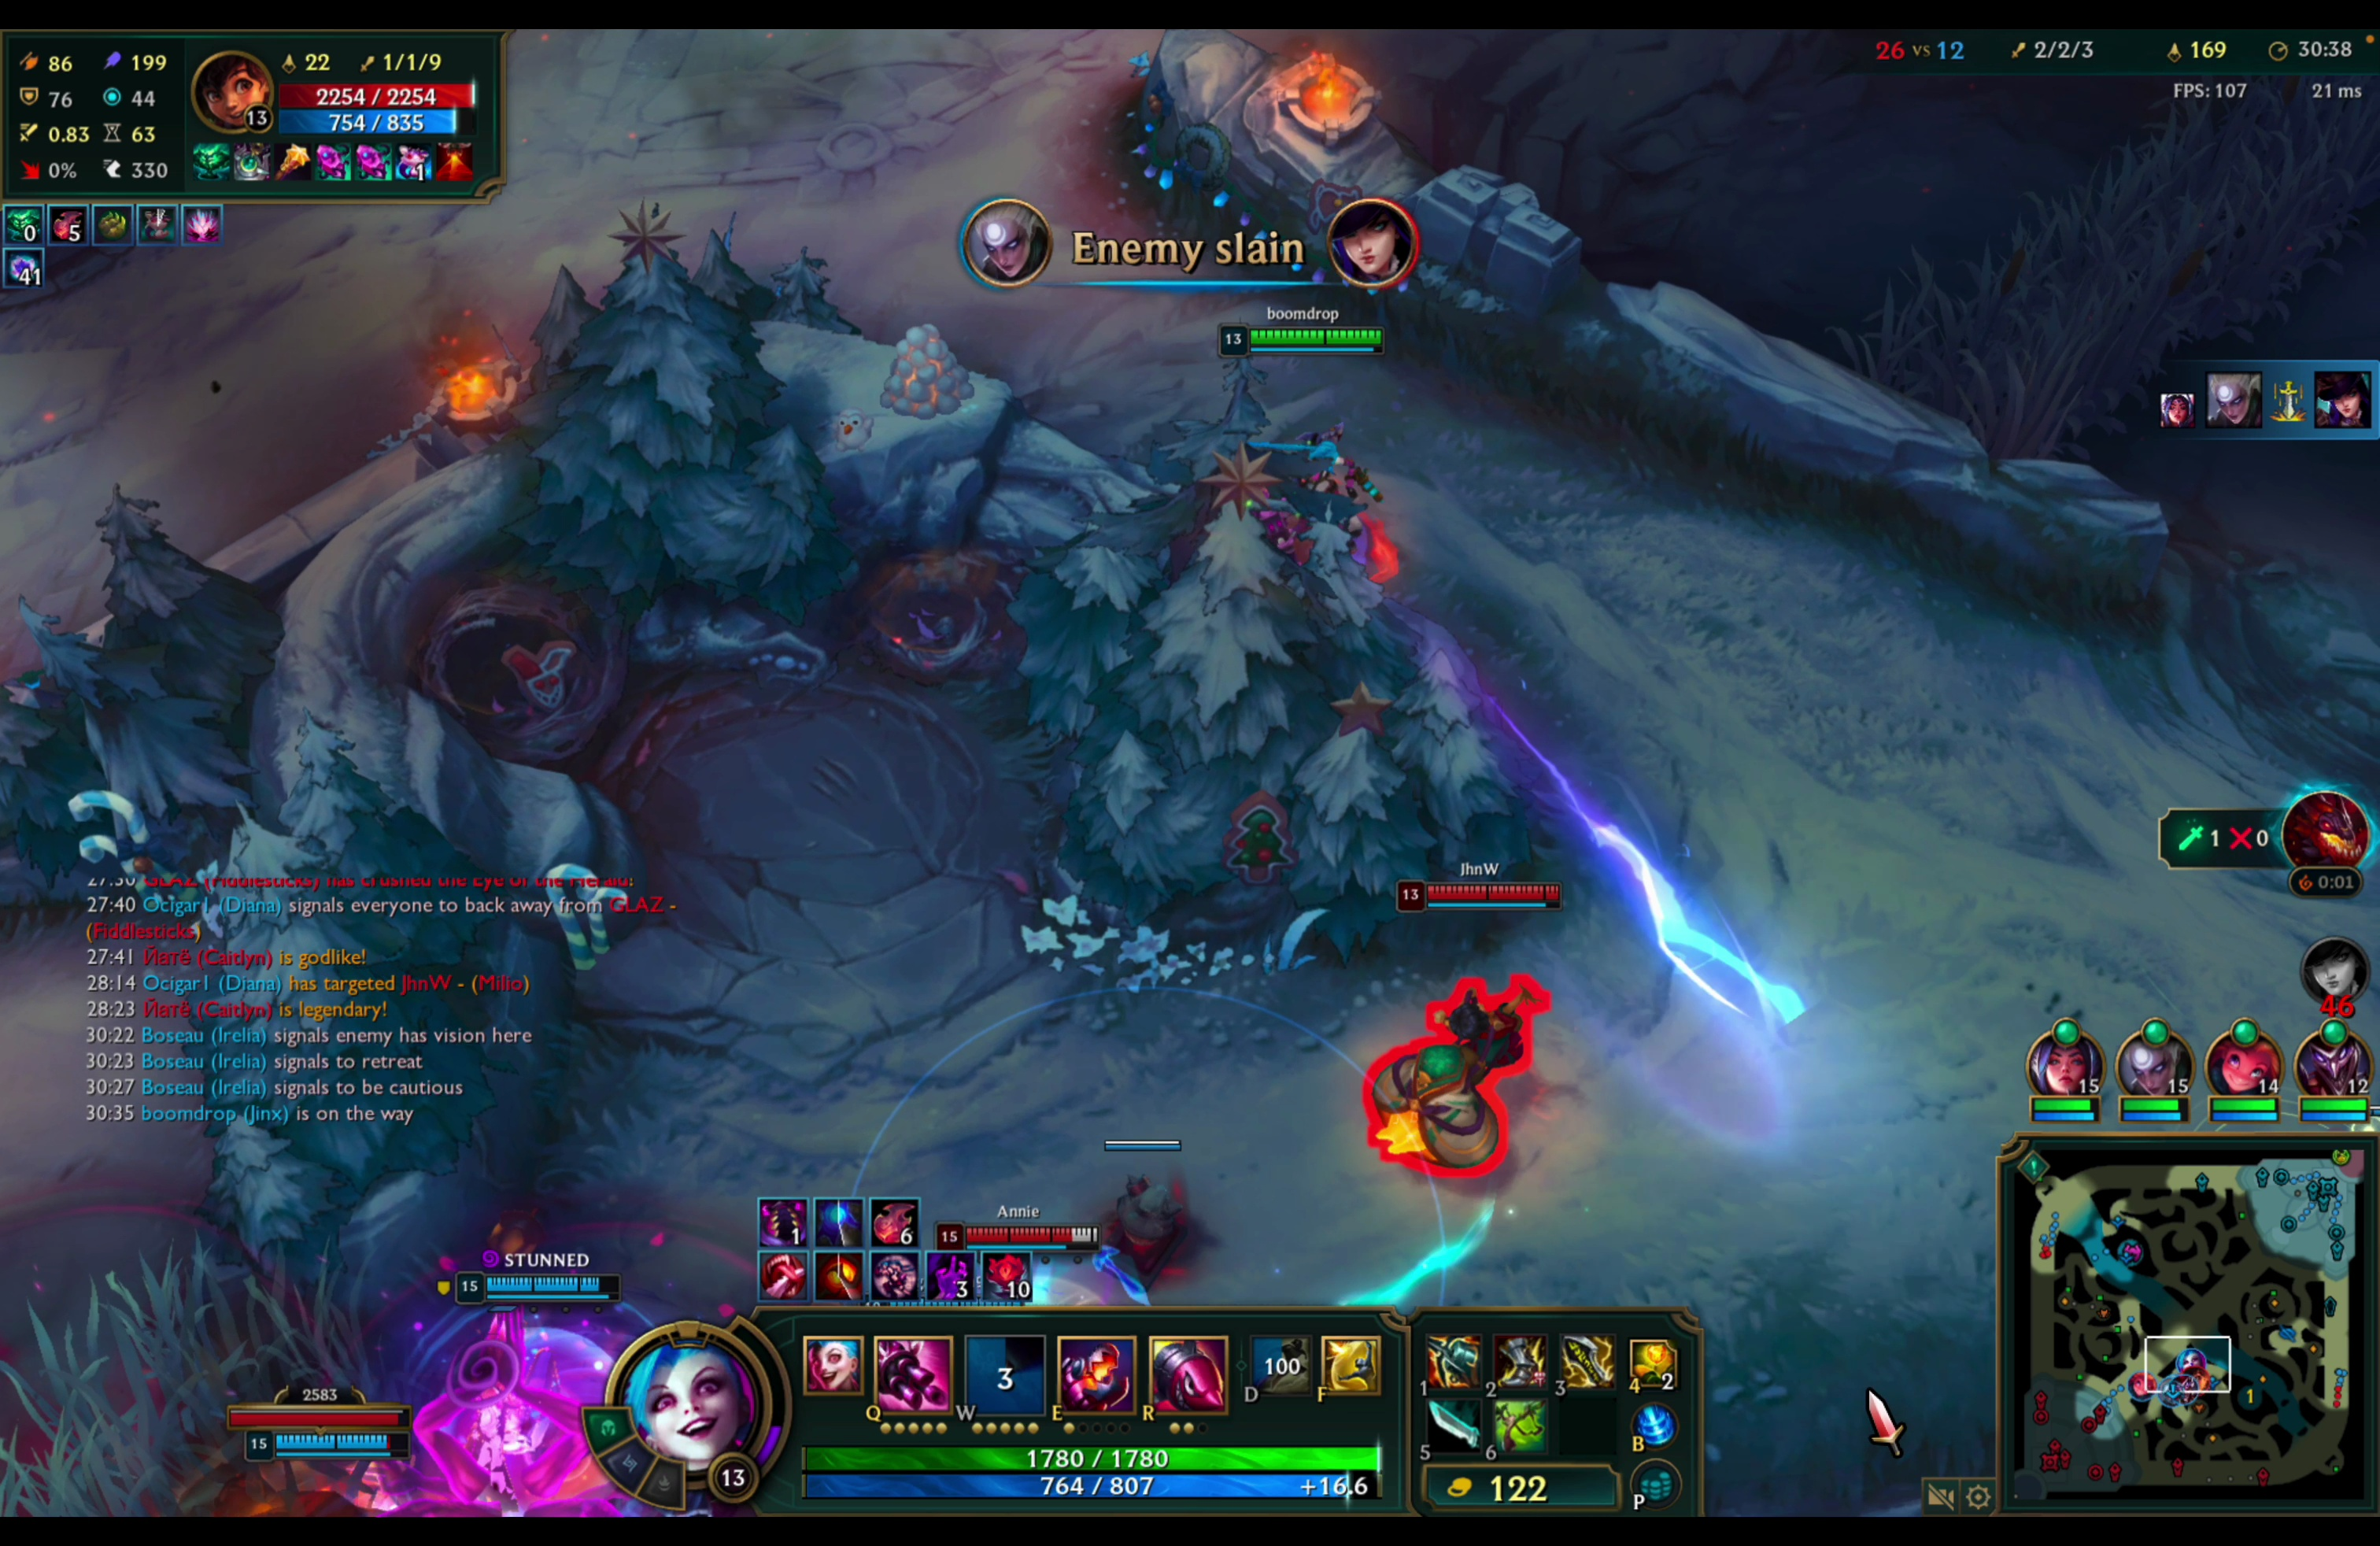JINX_W_PROJECTILE: (1202, 305, 1827, 1062)
